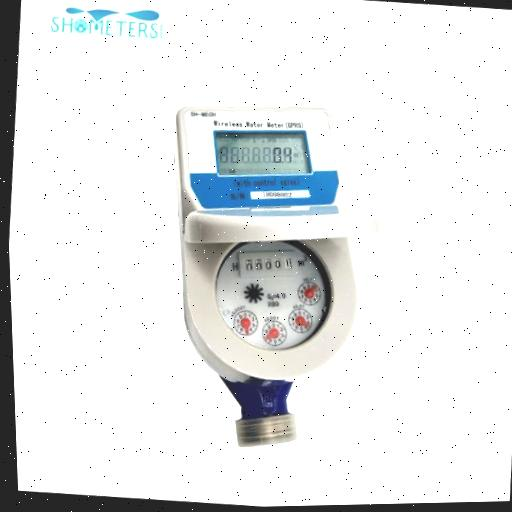0: (263, 259, 274, 272), (243, 261, 254, 273), (253, 260, 264, 272), (271, 259, 282, 271)
1: (282, 257, 292, 271)
border_water_meter_number: (235, 246, 299, 283)
